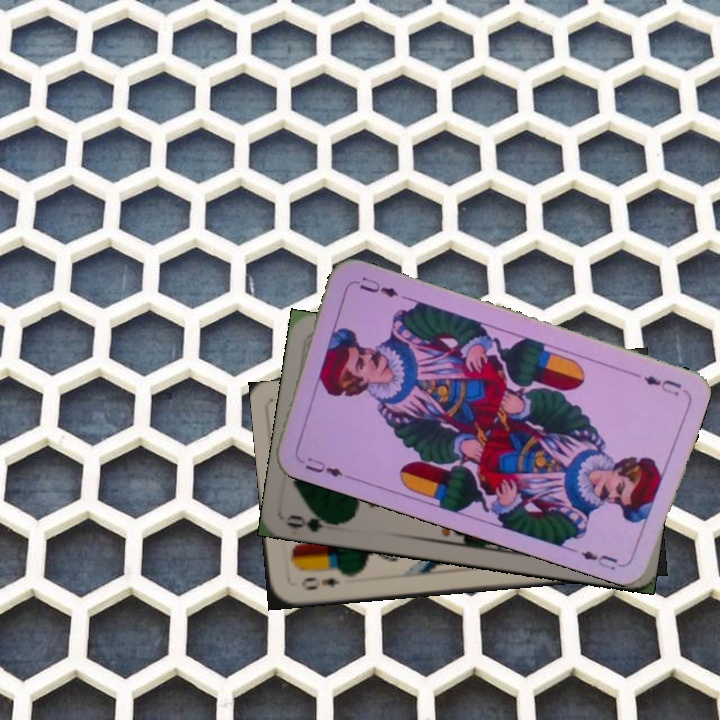EO: (297, 573, 342, 593)
EU: (294, 453, 346, 480), (639, 371, 684, 399)
GO: (284, 507, 344, 535)
